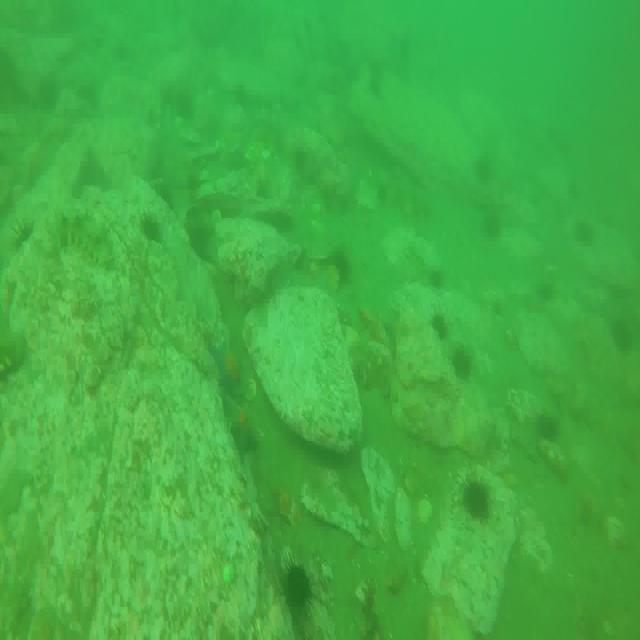echinus: (183, 210, 213, 265), (284, 560, 313, 612), (461, 480, 493, 524), (11, 220, 38, 256), (138, 206, 159, 250), (430, 306, 453, 346), (451, 346, 475, 382), (330, 244, 350, 286)
holothurian: (56, 216, 117, 260), (0, 332, 24, 392)
starfish: (222, 393, 260, 453), (211, 341, 243, 401)
